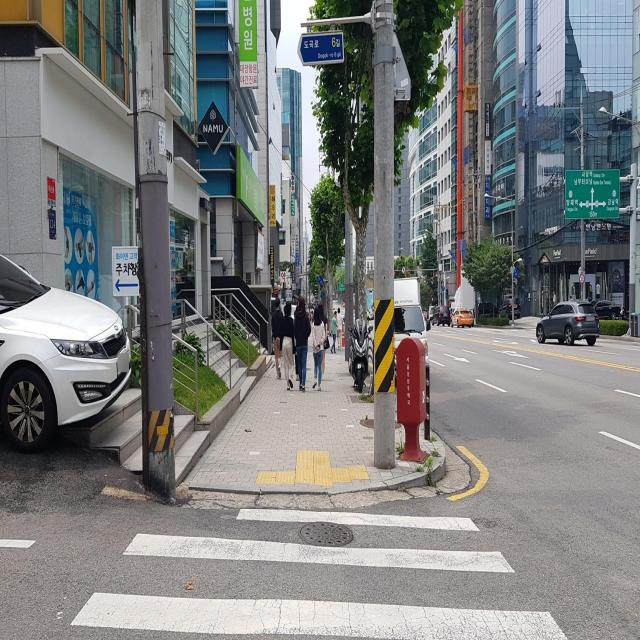횡단보도: (69, 506, 570, 640)
